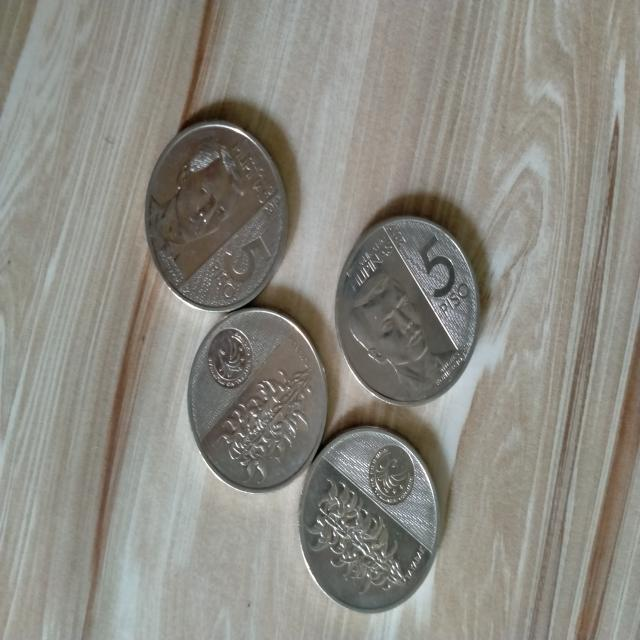5_New_Back: (306, 476, 415, 602), (210, 357, 318, 482)
5_New_Front: (408, 227, 472, 327), (208, 231, 271, 304)
